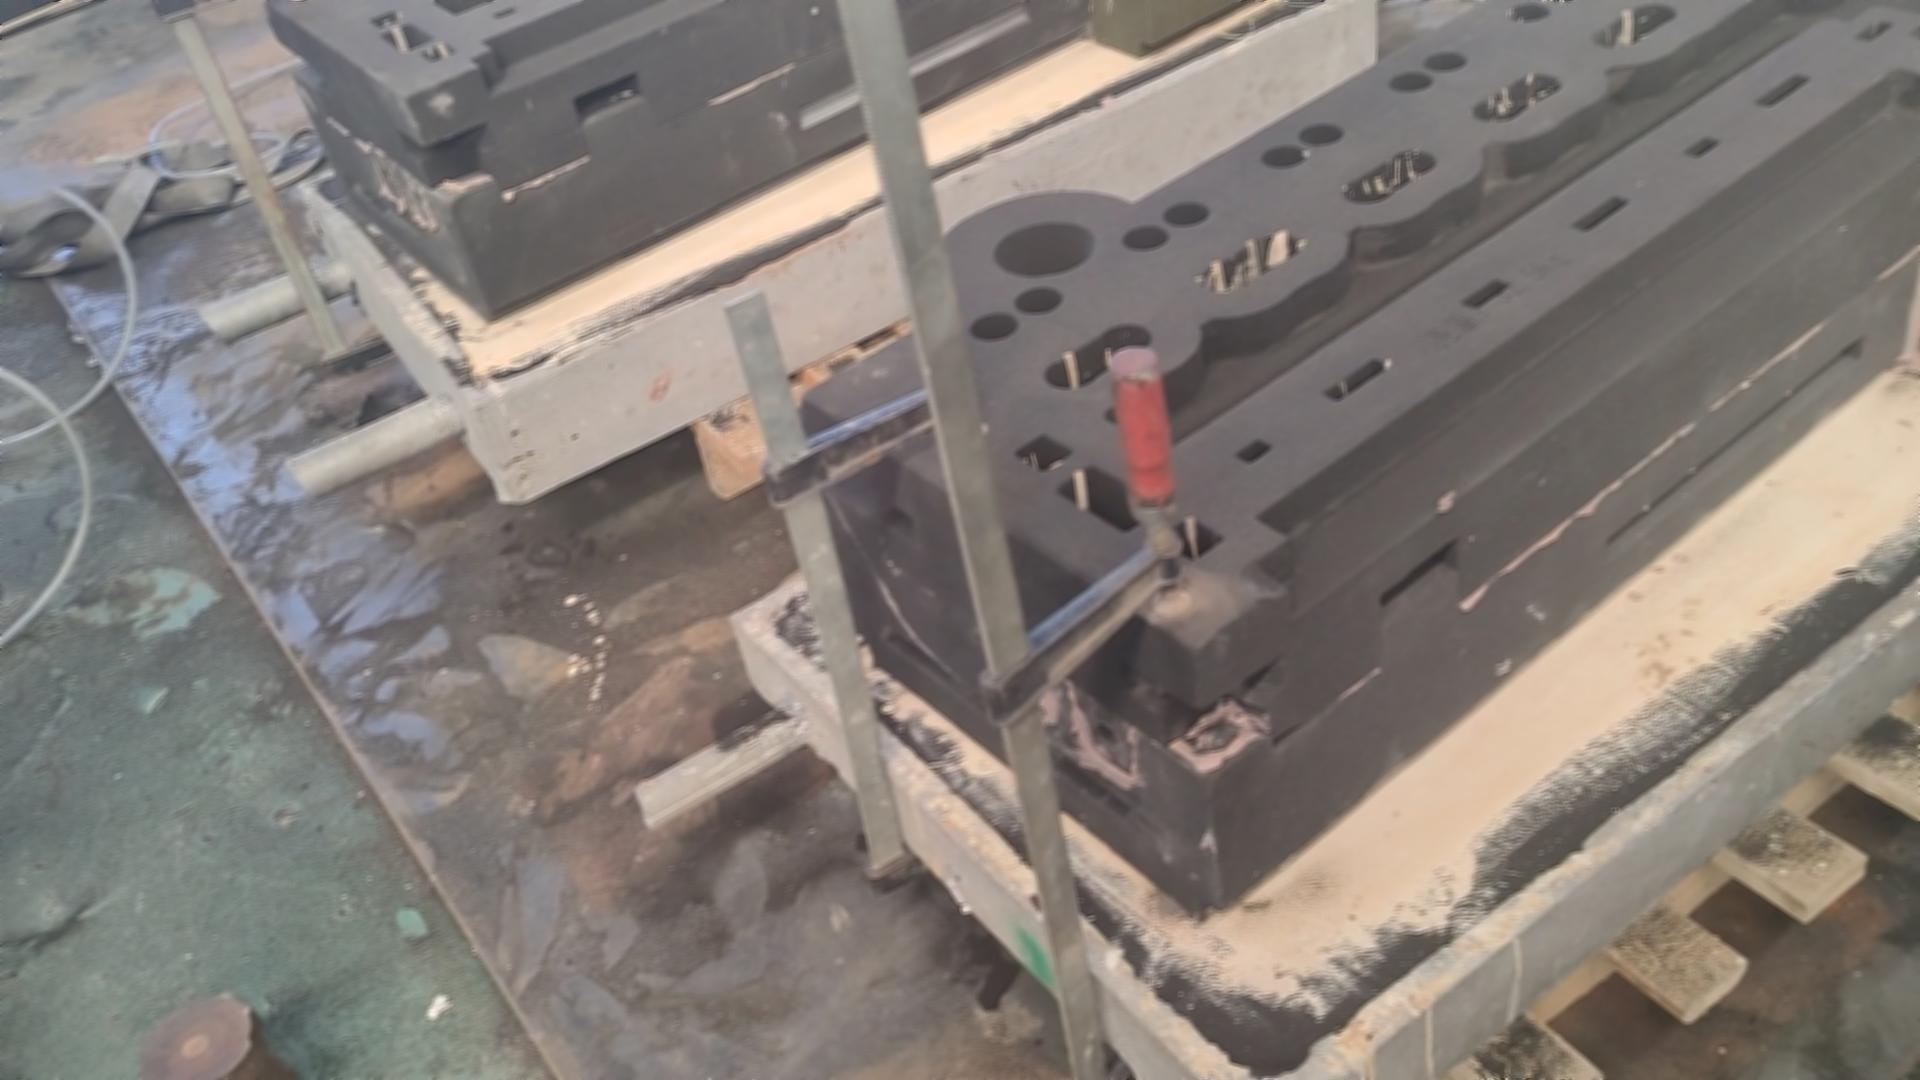pouring hole: (993, 220, 1097, 278)
